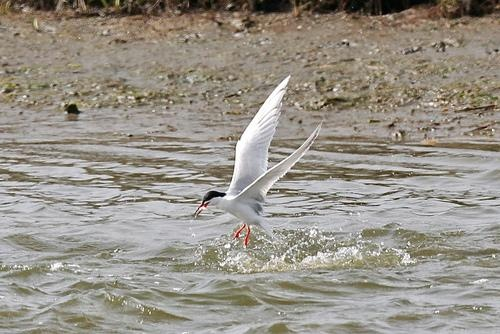bird: (192, 74, 319, 248)
